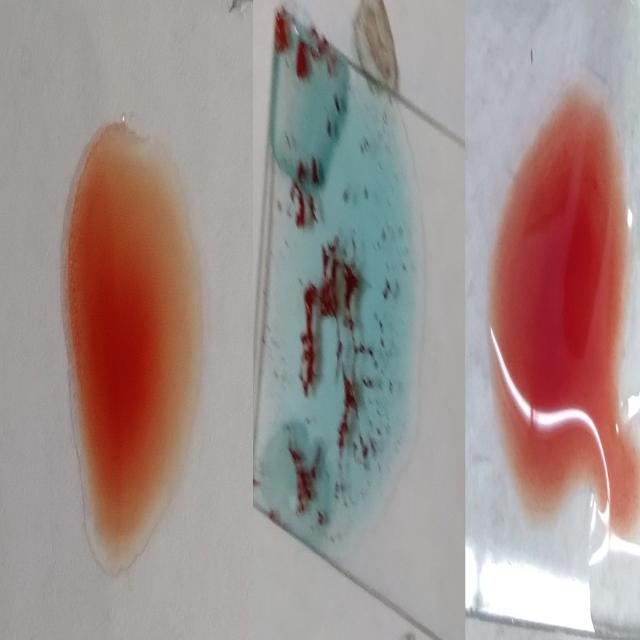A: (279, 75, 396, 528)
